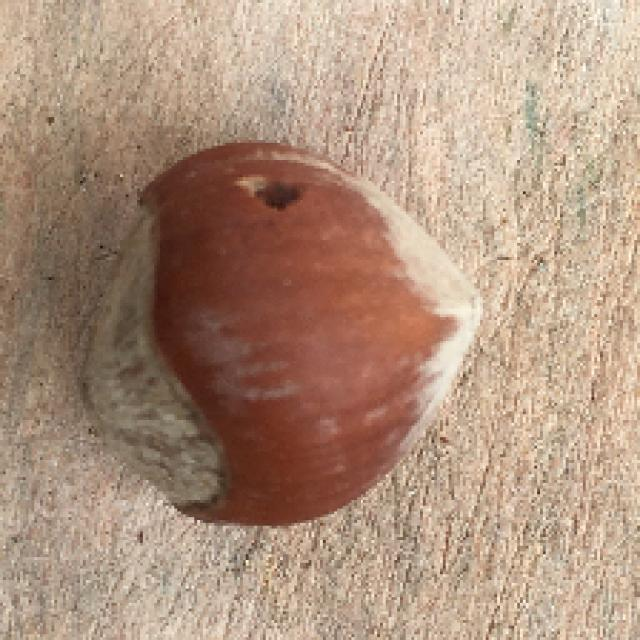damagedHazelnut: (65, 118, 487, 538)
